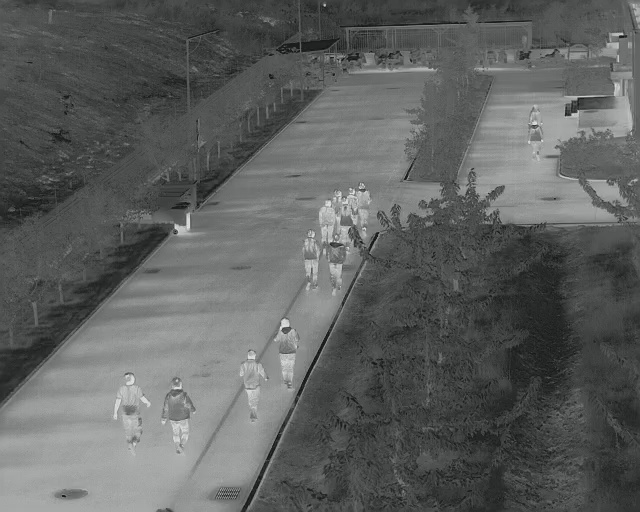person: (113, 373, 150, 453), (161, 376, 196, 455), (237, 348, 267, 422), (273, 316, 298, 390), (298, 228, 322, 292), (323, 233, 345, 297), (354, 182, 369, 239), (316, 197, 334, 242), (526, 119, 543, 161), (336, 197, 351, 243)
